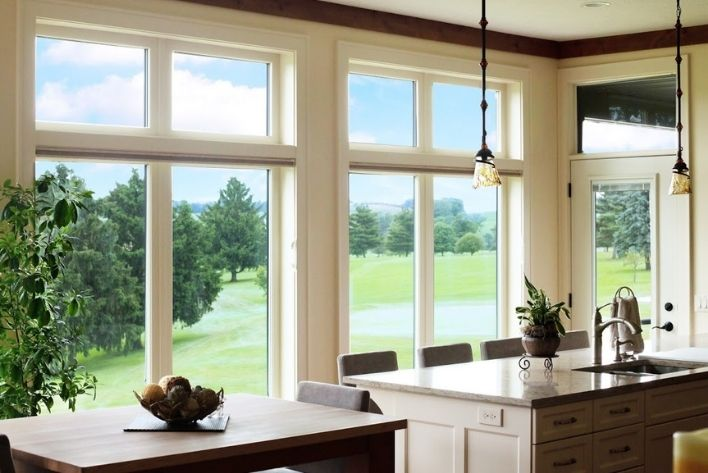Window: (29, 57, 285, 396), (338, 82, 517, 354), (569, 85, 681, 152), (589, 181, 656, 293)
